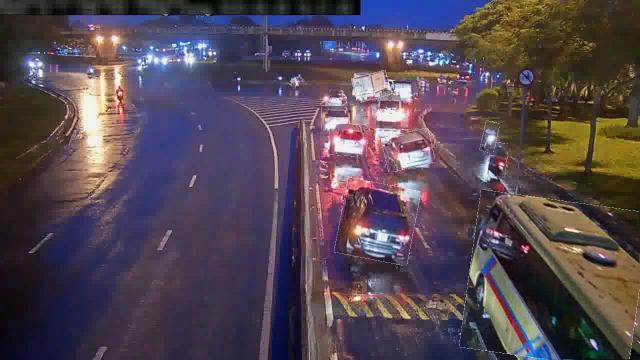Bike: (488, 142, 508, 178), (482, 121, 498, 152)
Bus: (464, 195, 640, 359)
Car: (338, 181, 418, 263), (382, 130, 433, 170), (328, 124, 368, 156), (322, 106, 350, 130)
Truck: (352, 72, 390, 100)
